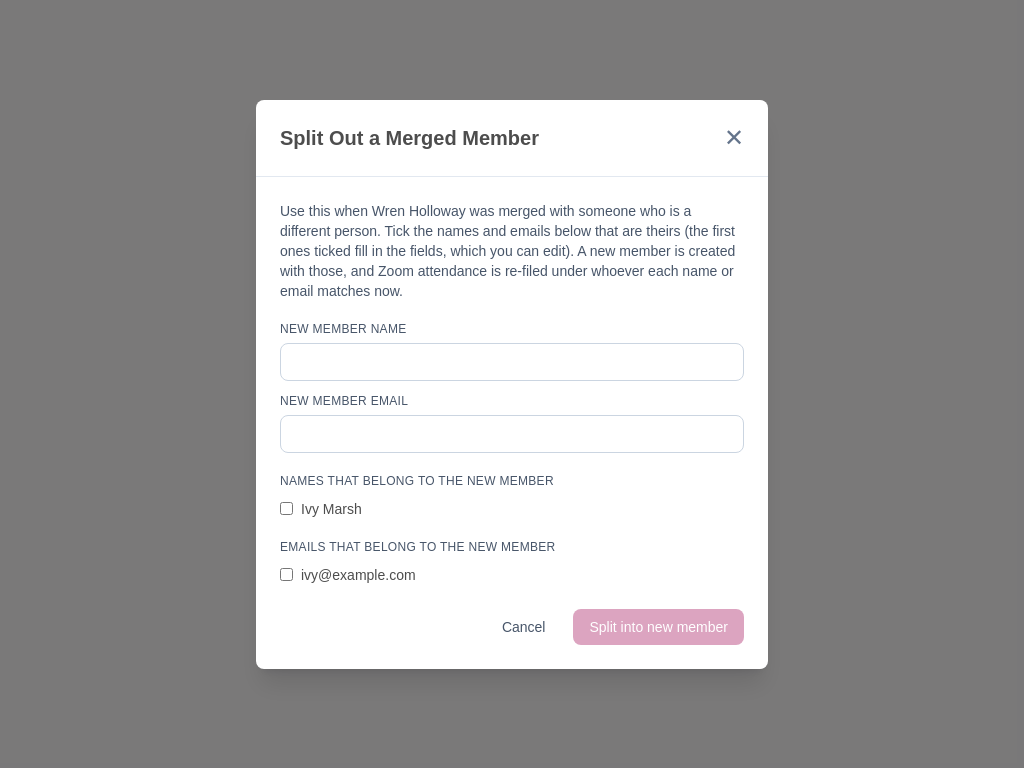
SplitMemberModal move to existing member › shows the error when the move fails
This screenshot has width=1024, height=768.
Click the checkbox labelled "Ivy Marsh" at (286, 508), box [280,502,293,515]
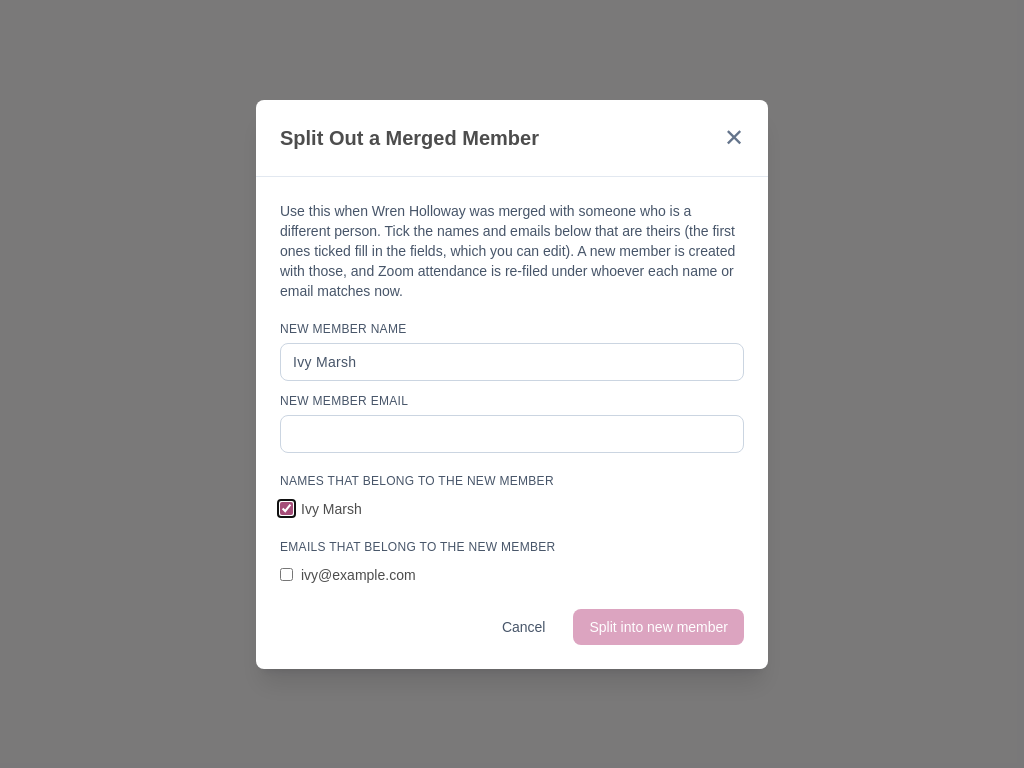
Click the checkbox labelled "ivy@example.com" at (286, 574), box [280,568,293,581]
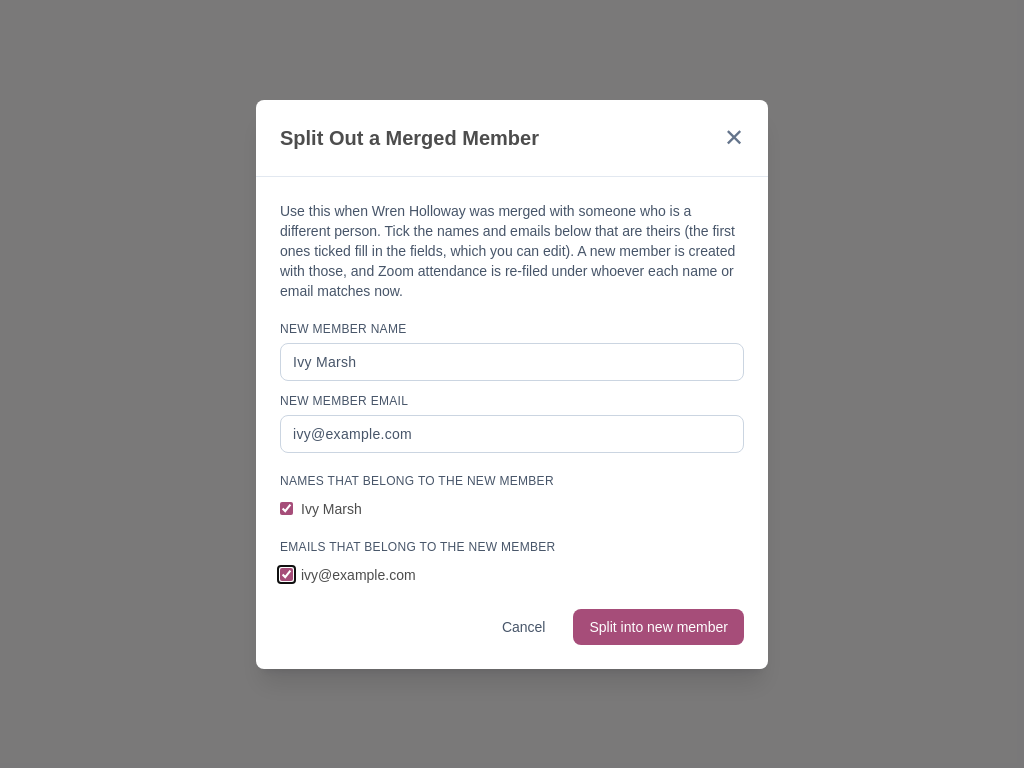
Click the button "Split into new member" at (659, 626), box [574,608,744,644]
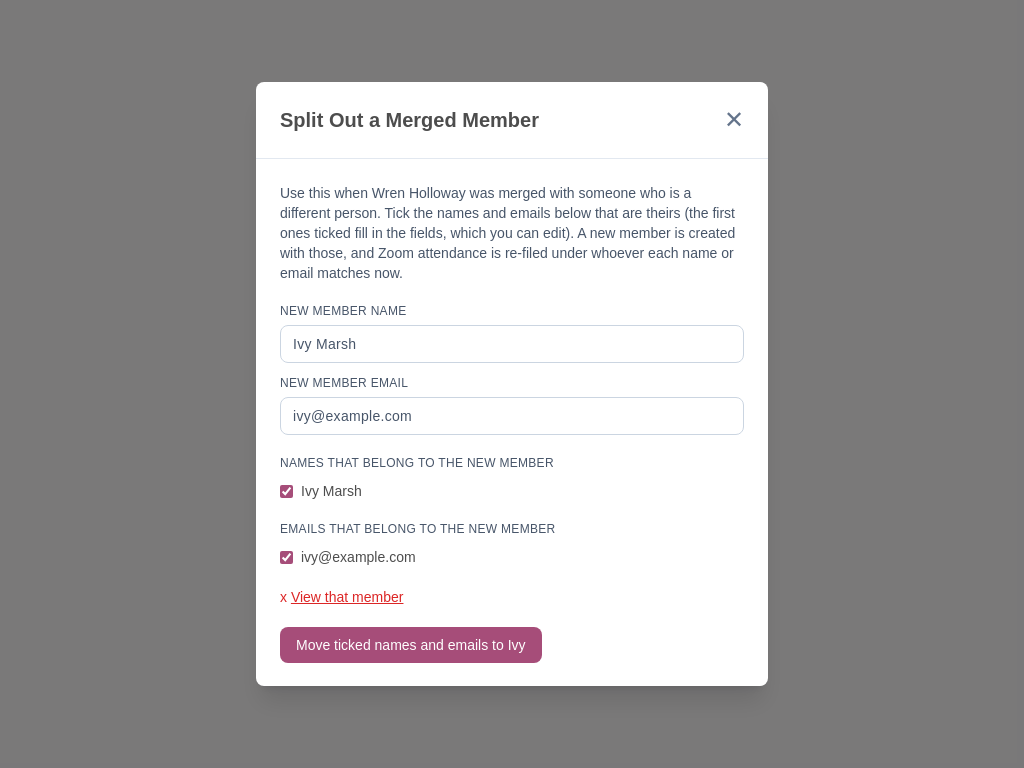
Click the button "Move ticked names and emails to Ivy" at (411, 645), box [280,627,542,663]
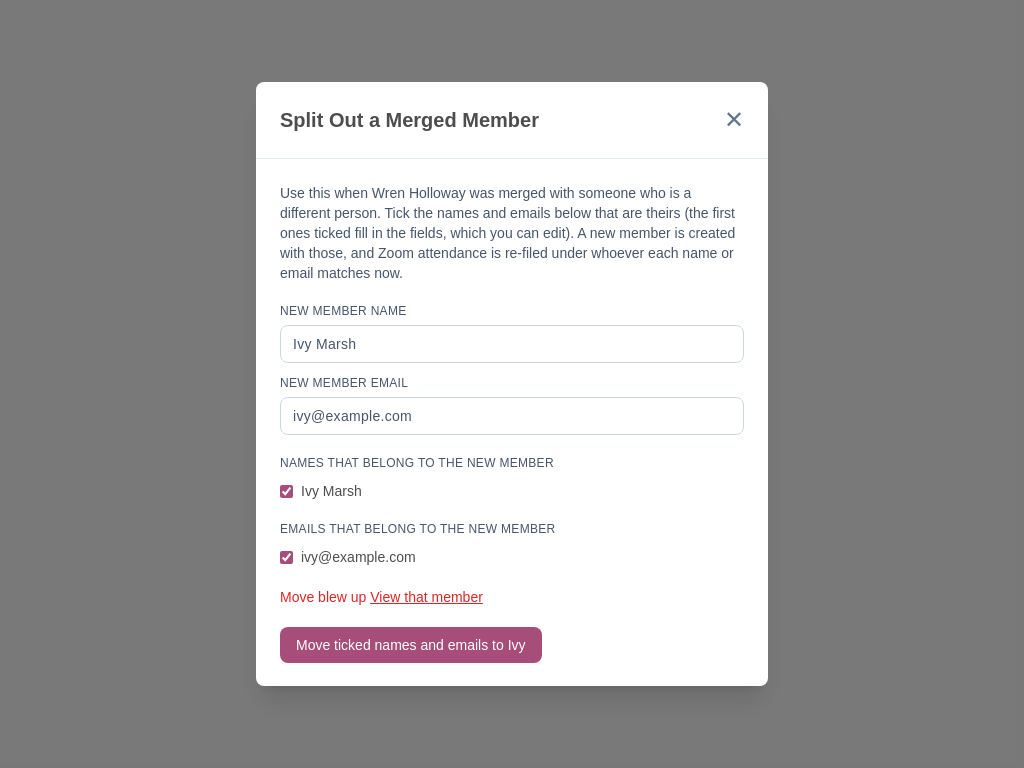
Now the text "Move blew up" is shown, box [280,589,366,605]
